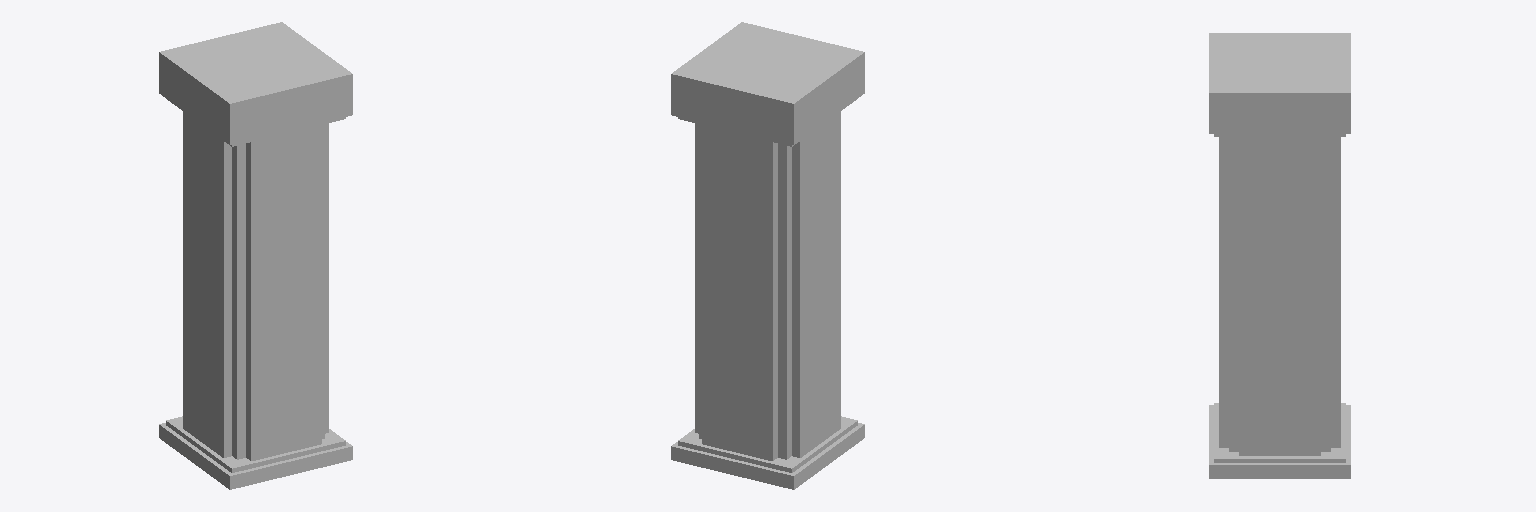
File: filar 1.obj
3 renders of one model, left to right at view 1: azimuth 30°, elevation 25°; view 2: azimuth 150°, elevation 25°; view 3: azimuth 270°, elevation 25°, orthographic.
Parts seen in each view (by area): view 1: object 1; view 2: object 1; view 3: object 1.
Boxes of the visible parts, <box> form: object 1: <box>159,22,352,489</box>; object 1: <box>671,22,864,489</box>; object 1: <box>1209,33,1350,478</box>.
Size of the model in its own units: 2.8 by 8.4 by 2.8.